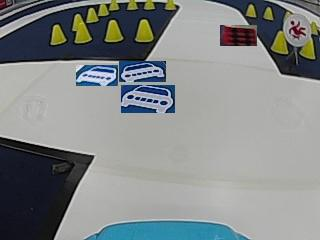cone: (134, 18, 153, 42), (104, 19, 123, 42), (270, 31, 288, 54), (73, 20, 90, 43), (50, 24, 65, 45), (300, 40, 316, 59), (85, 7, 98, 23), (262, 6, 273, 21), (245, 4, 256, 18), (97, 3, 108, 16), (164, 0, 176, 10), (127, 0, 138, 10), (109, 0, 119, 11), (144, 0, 155, 10)
tumble: (285, 15, 309, 42)
